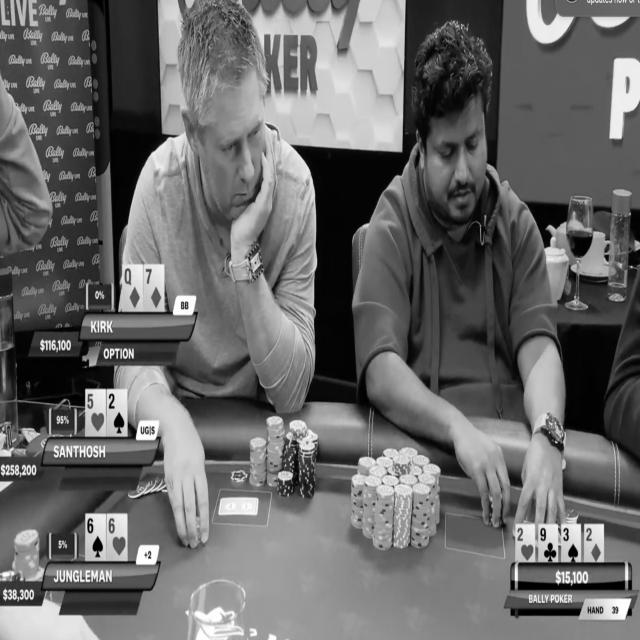2D: (585, 525, 603, 562)
2H: (516, 524, 534, 562)
2S: (107, 389, 127, 437)
3S: (562, 525, 580, 563)
5H: (86, 389, 106, 437)
6H: (107, 513, 127, 561)
6S: (86, 513, 106, 561)
7D: (144, 264, 164, 312)
9C: (539, 524, 558, 562)
QD: (124, 265, 143, 311)
